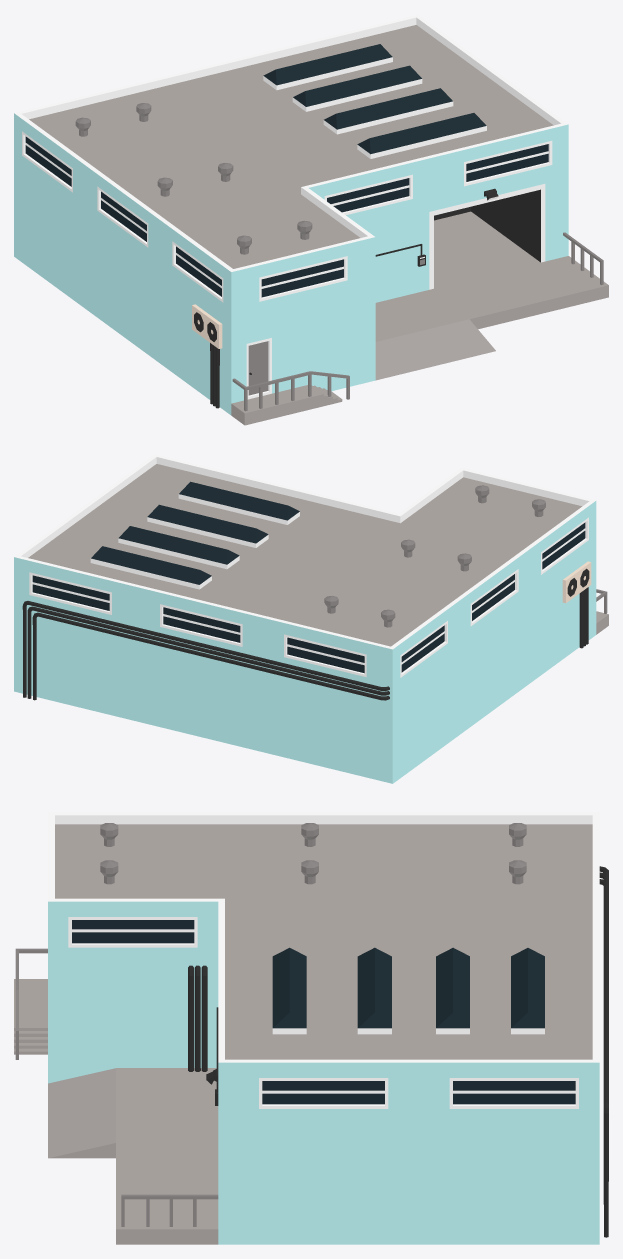
Rendered from industry-warehouse.glb.
3 views of the same model, one above another, from view 1: azimuth 30°, elevation 25°; view 2: azimuth 150°, elevation 25°; view 3: azimuth 270°, elevation 25° (orthographic). The views are drawn at different scales.
Visible parts, largest first — view 1: industry-warehouse; view 2: industry-warehouse; view 3: industry-warehouse.
Boxes of the visible parts, <box> form: industry-warehouse: <box>14,14,608,425</box>; industry-warehouse: <box>14,454,608,783</box>; industry-warehouse: <box>14,812,608,1244</box>.
Bounding box in the file's own units: 17.55 × 6.3 × 17.48.
Materials: 1 (1 with a texture image).
